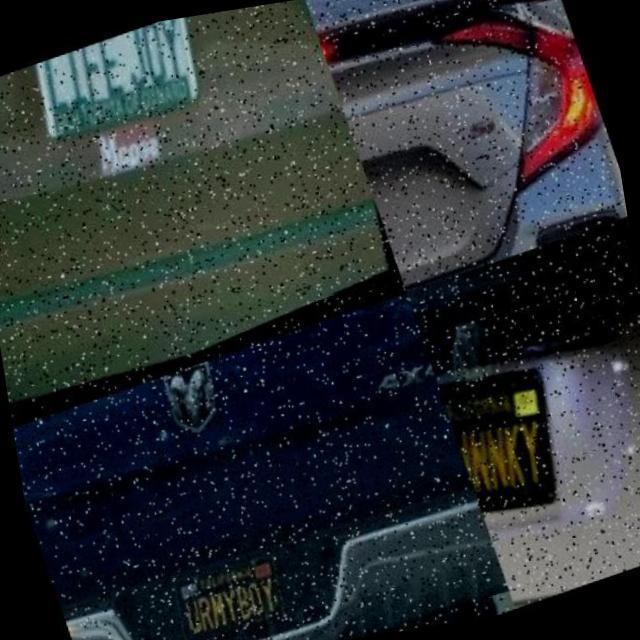License Plate: (18, 13, 230, 167), (432, 340, 580, 544), (170, 552, 288, 640)
